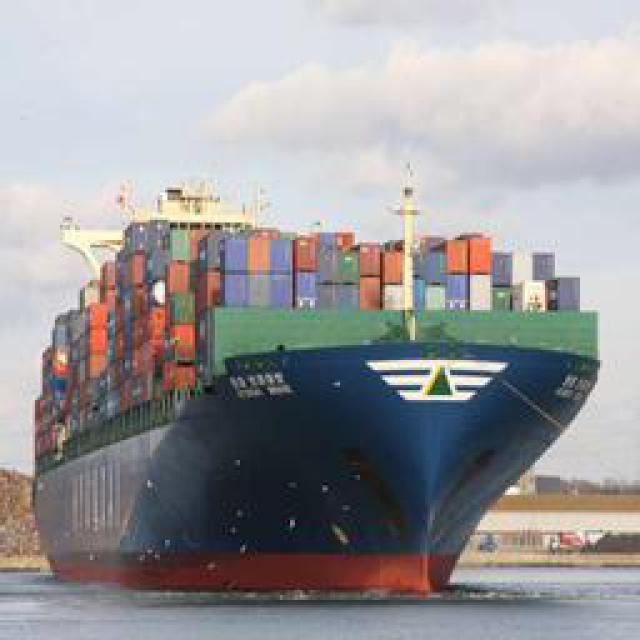Ship: (14, 143, 606, 601)
